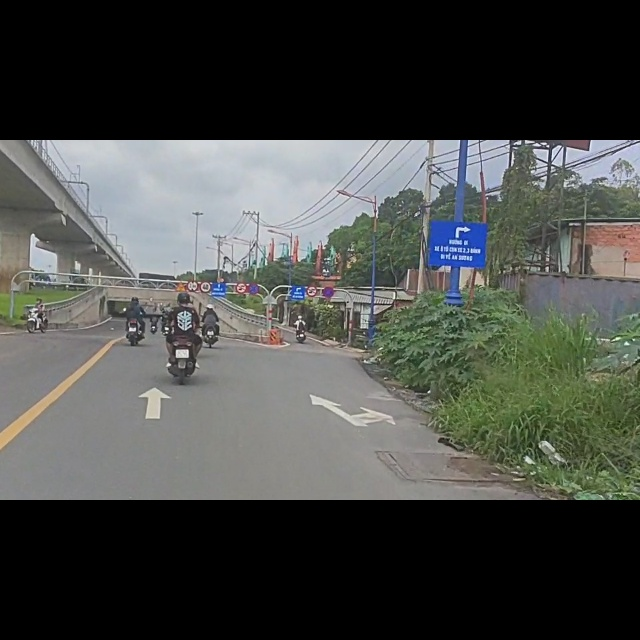bien_nguy_hiem: (186, 249, 199, 270), (199, 251, 212, 271), (235, 252, 247, 273), (248, 254, 259, 276), (323, 260, 334, 281), (306, 260, 318, 279)
